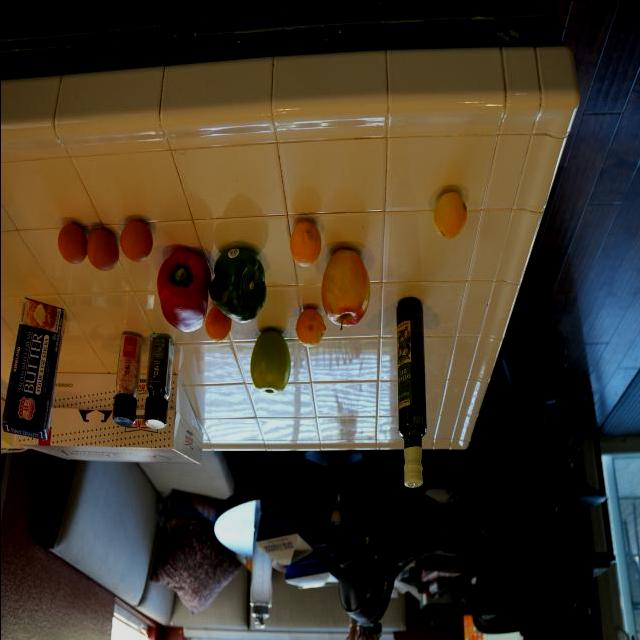bell_pepper: (151, 242, 217, 338), (209, 244, 271, 322), (139, 332, 178, 432)
egg: (118, 217, 157, 265), (86, 224, 122, 273), (53, 218, 89, 267)
